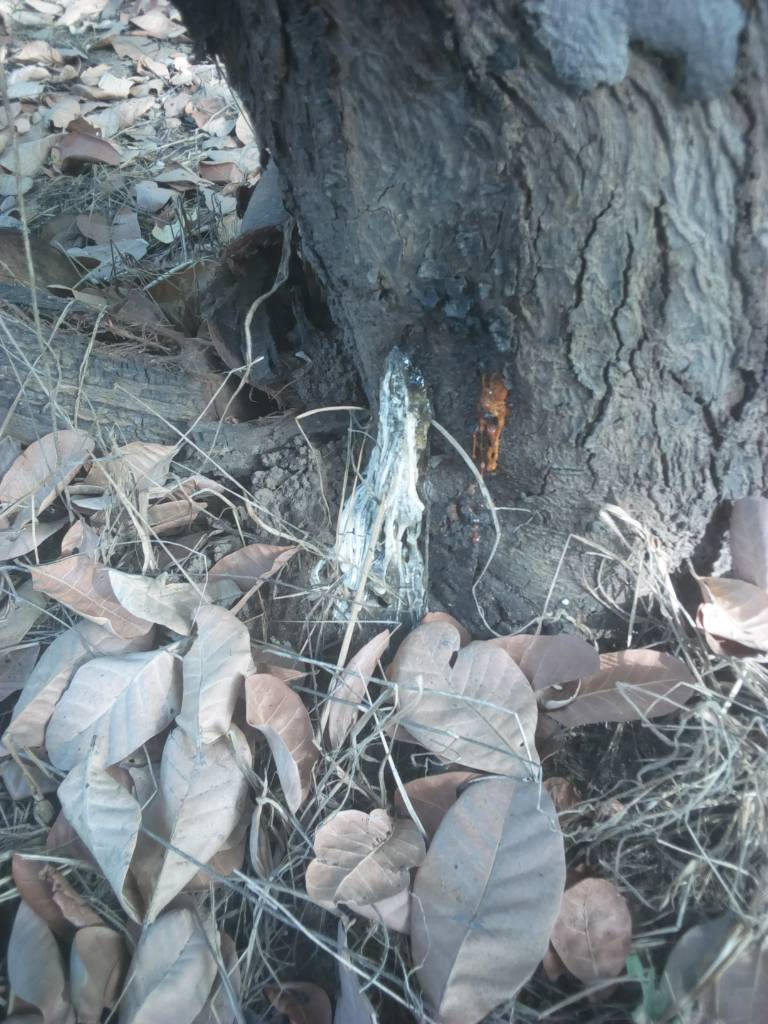Gommose: (425, 267, 532, 457)
